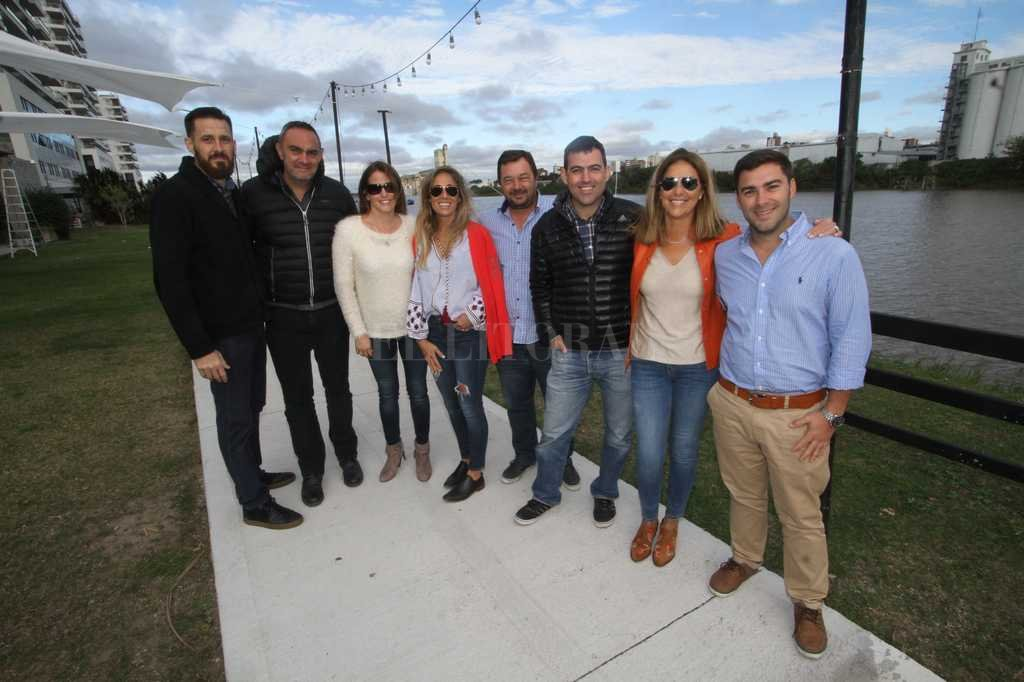person: (726, 150, 856, 327), (162, 111, 248, 269), (640, 149, 725, 298), (549, 140, 640, 275), (341, 159, 424, 294), (421, 165, 498, 306), (259, 120, 334, 255), (488, 155, 538, 244)
